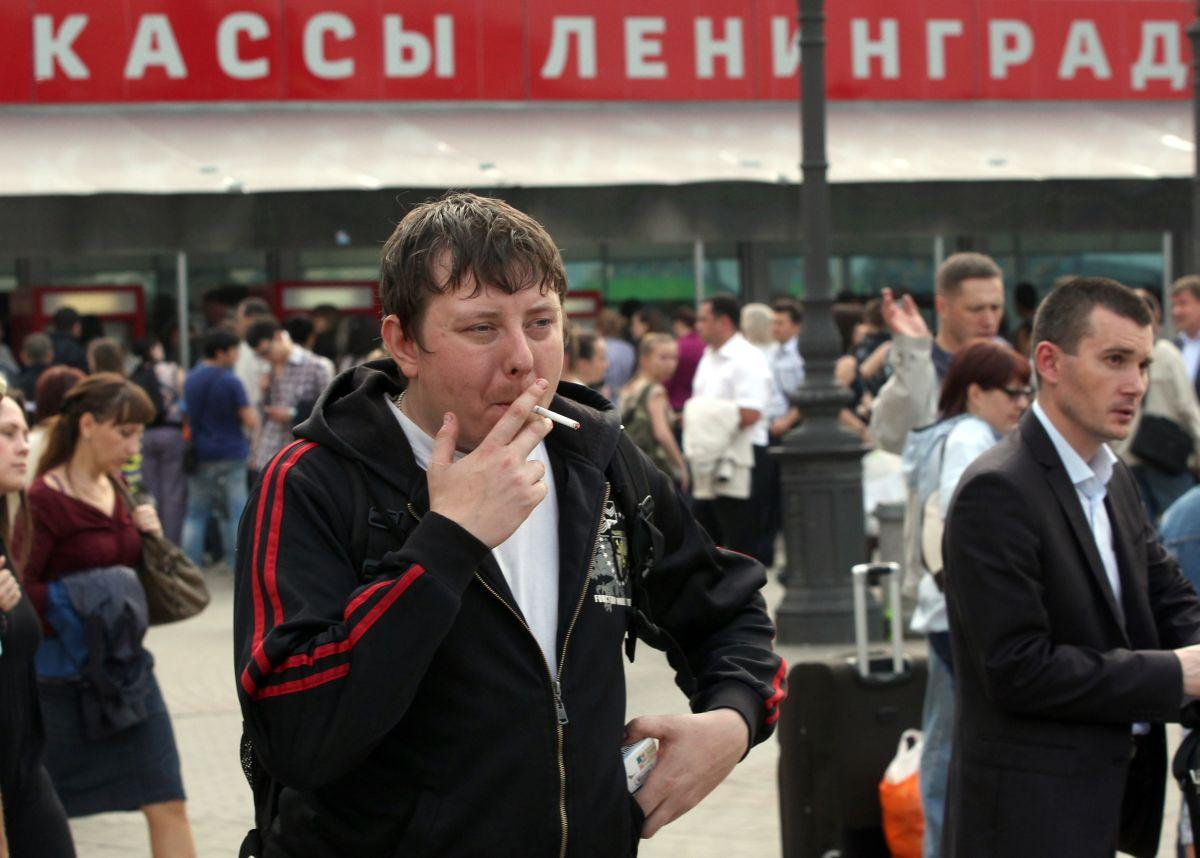cigarette: (529, 404, 581, 431)
